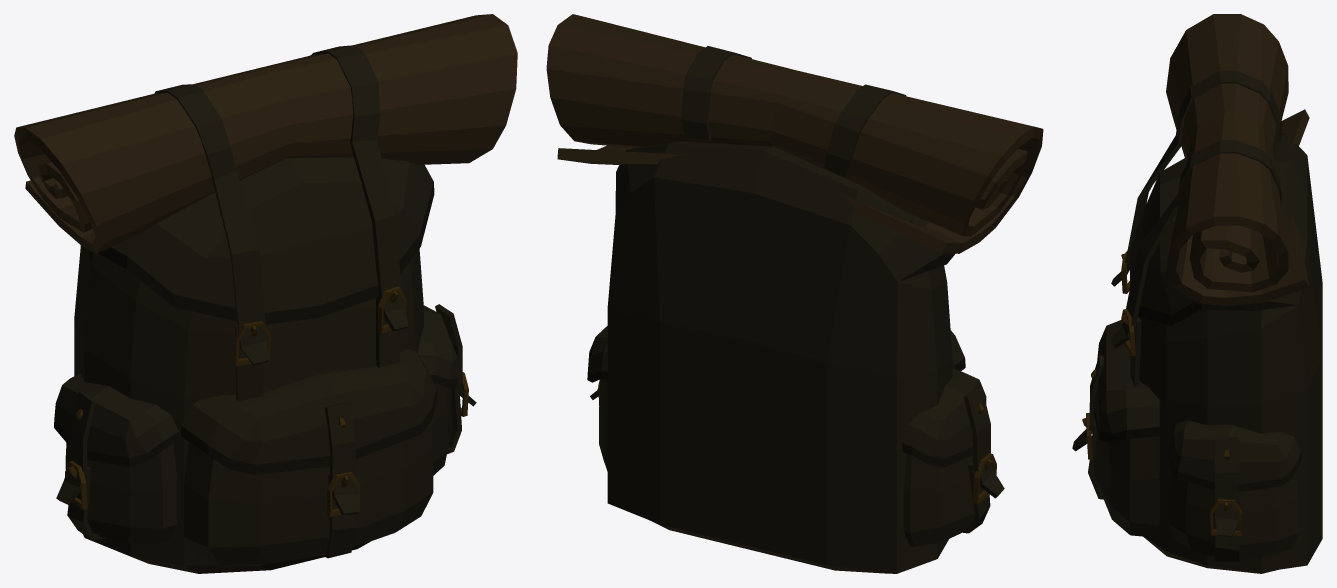
The model's file is micro_backpack.obj.
3 views of the same model, side by side, from view 1: azimuth 30°, elevation 25°; view 2: azimuth 150°, elevation 25°; view 3: azimuth 270°, elevation 25° (orthographic). The views are drawn at different scales.
Visible parts, largest first — view 1: Backpack_Plane; view 2: Backpack_Plane; view 3: Backpack_Plane.
Boxes of the visible parts, x1,y1,x2,y2 form: Backpack_Plane: [14, 14, 517, 573]; Backpack_Plane: [546, 14, 1043, 573]; Backpack_Plane: [1072, 14, 1322, 573].
Size of the model in its own units: 3.34 by 3.12 by 1.75.
